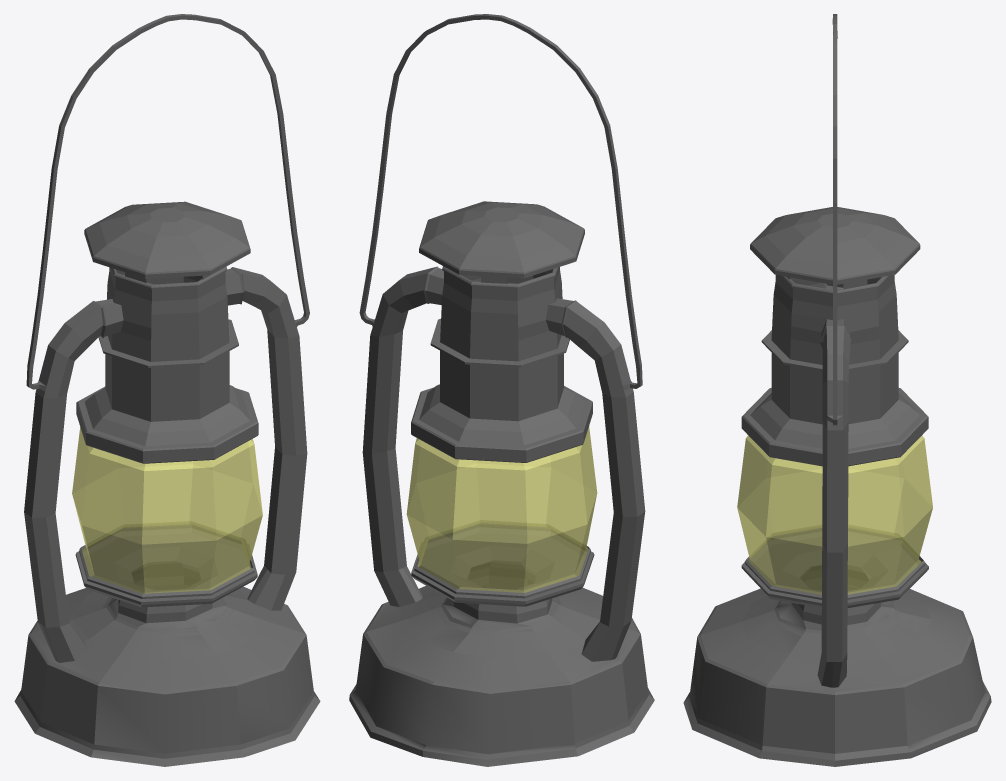
The model's file is Linterna.fbx.
3 views of the same model, side by side, from view 1: azimuth 30°, elevation 25°; view 2: azimuth 150°, elevation 25°; view 3: azimuth 270°, elevation 25° (orthographic).
Visible parts, largest first — view 1: Linterna; view 2: Linterna; view 3: Linterna.
Part boxes in pixels (left/top/right/bottom): Linterna: left=14, top=14, right=320, bottom=766; Linterna: left=349, top=14, right=654, bottom=766; Linterna: left=683, top=14, right=991, bottom=766.
Bounding box in the file's own units: 0.8836 × 2.06 × 0.8456.
